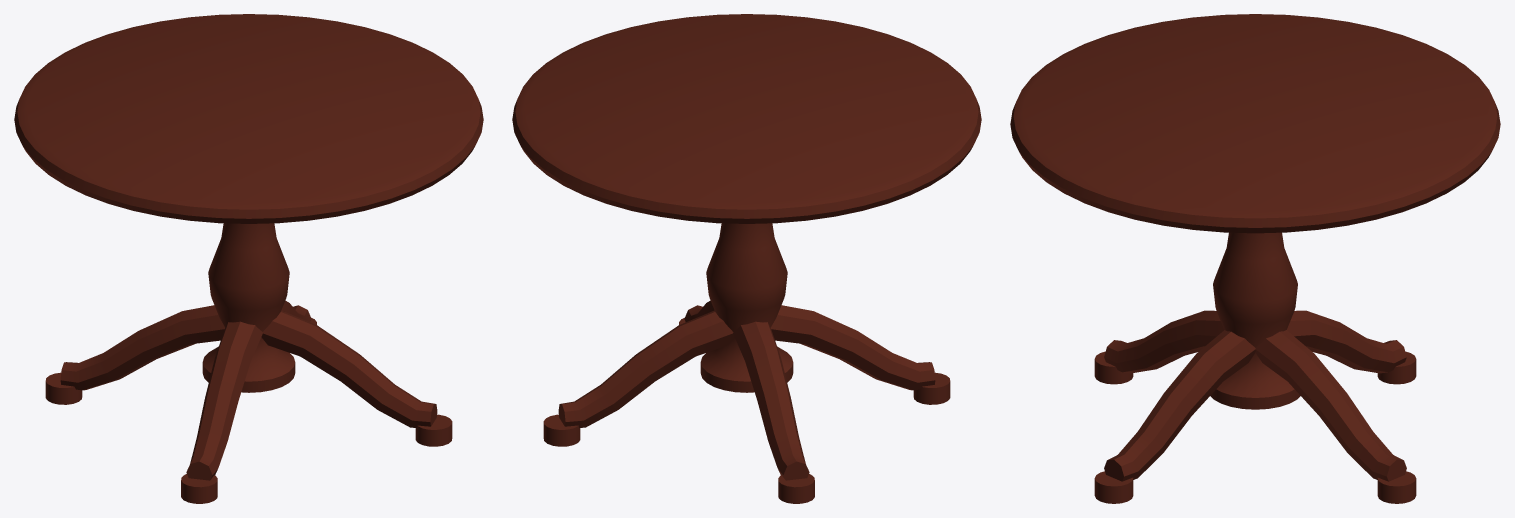
The model's file is CoffeeTable.glb.
The picture shows the model from 3 angles, left to right: view 1: azimuth 30°, elevation 25°; view 2: azimuth 150°, elevation 25°; view 3: azimuth 270°, elevation 25°; orthographic projection. The views are drawn at different scales.
Visible parts, largest first — view 1: CoffeeTable_Body; view 2: CoffeeTable_Body; view 3: CoffeeTable_Body.
Part boxes in pixels (x1,y1,x2,y2): CoffeeTable_Body: (14, 14, 483, 503); CoffeeTable_Body: (512, 14, 981, 503); CoffeeTable_Body: (1010, 14, 1500, 503).
Bounding box in the file's own units: 0.76 × 0.553 × 0.76.
